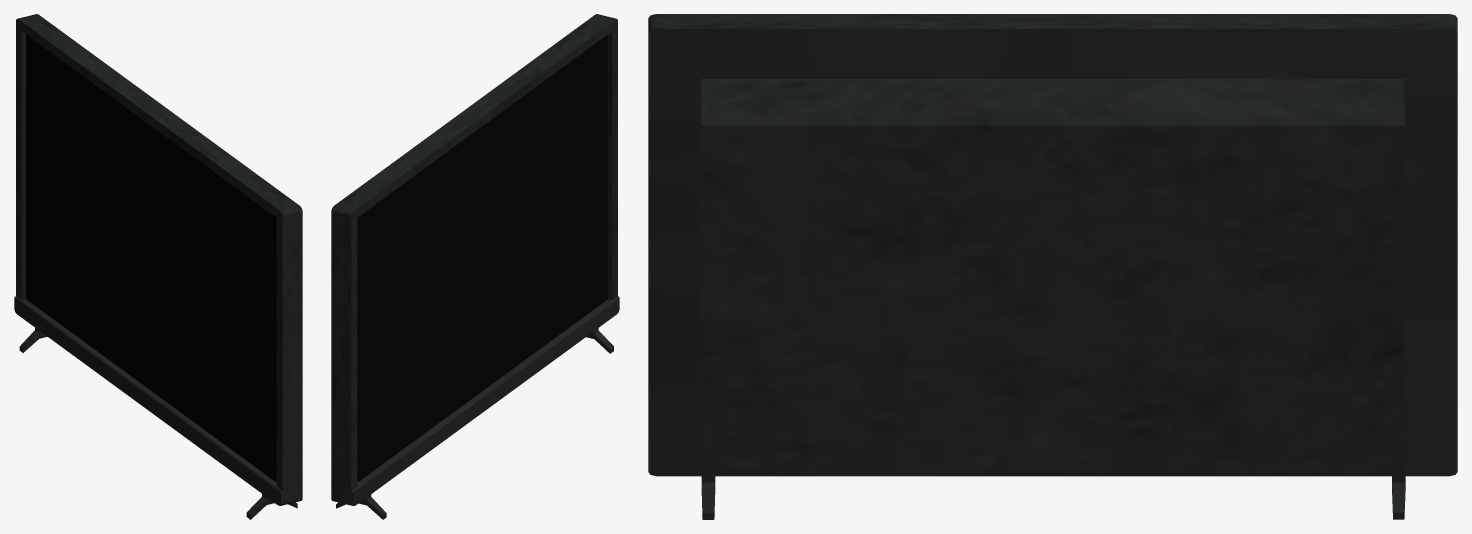
The picture shows the model from 3 angles, left to right: view 1: azimuth 30°, elevation 25°; view 2: azimuth 150°, elevation 25°; view 3: azimuth 270°, elevation 25°; orthographic projection. The views are drawn at different scales.
Visible parts, largest first — view 1: Cube; view 2: Cube; view 3: Cube.001, Cube.
Boxes of the visible parts, x1=… form: Cube: x1=14, y1=14, x2=302, y2=505; Cube: x1=331, y1=14, x2=619, y2=505; Cube.001: x1=701, y1=79, x2=1404, y2=473; Cube: x1=648, y1=14, x2=1457, y2=476.
Bounding box in the file's own units: 0.1299 × 0.8073 × 1.23.
2 materials, 2 textured.
